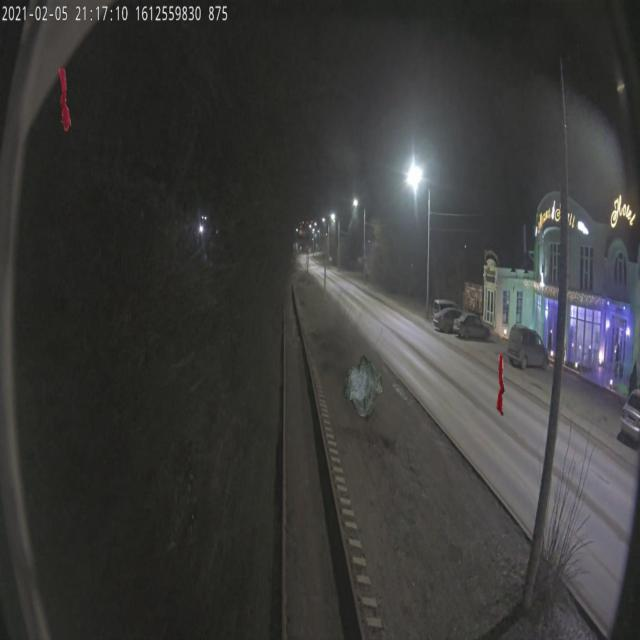floating object: (58, 67, 71, 131), (496, 352, 505, 416)
plastic bag: (342, 353, 383, 417)
